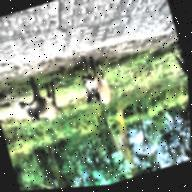boar: (11, 71, 63, 129), (75, 52, 114, 111)
